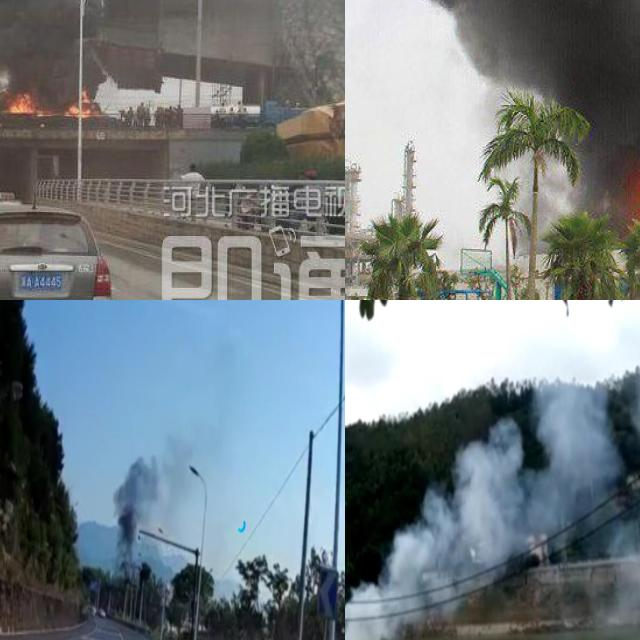fire: (6, 88, 48, 116), (66, 90, 95, 116)
smoke: (345, 336, 640, 640), (345, 0, 640, 187), (111, 444, 161, 568)
